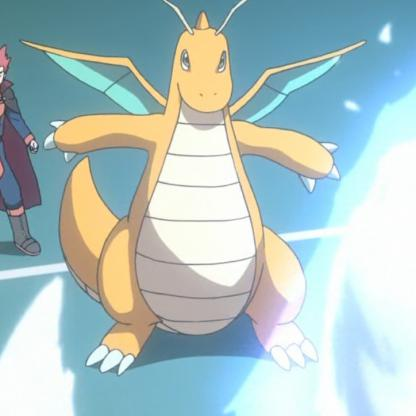Dragonite: (27, 5, 336, 375)
